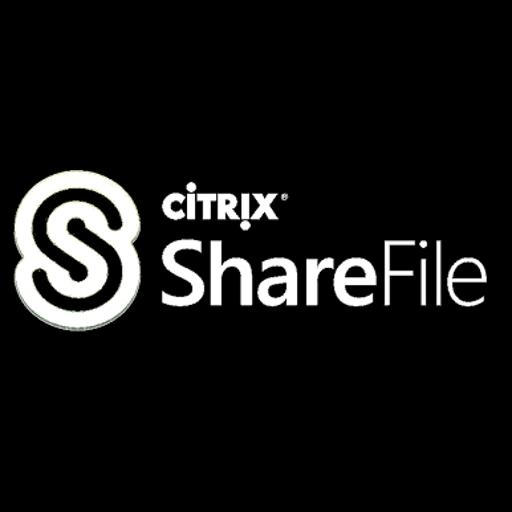Citrix ShareFile: (0, 170, 512, 342)
